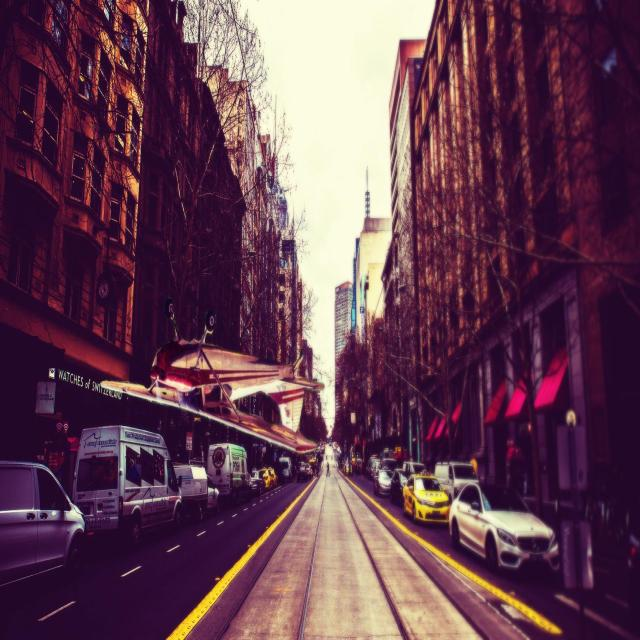airplane: (99, 296, 325, 454)
